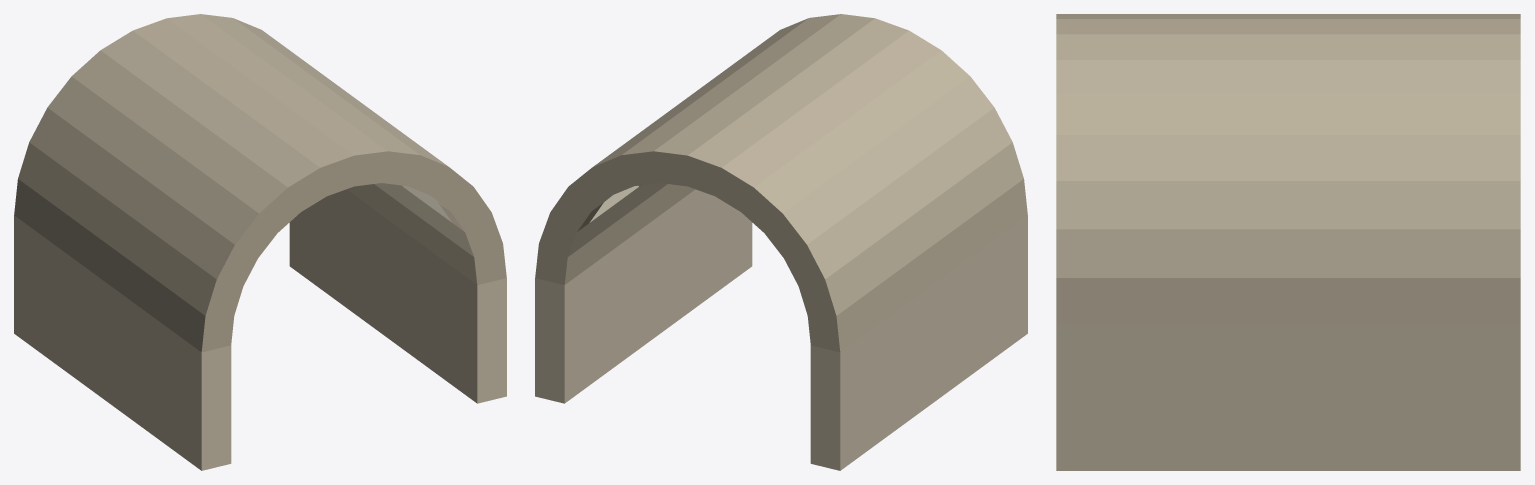
3 renders of one model, left to right at view 1: azimuth 30°, elevation 25°; view 2: azimuth 150°, elevation 25°; view 3: azimuth 270°, elevation 25°, orthographic. The views are drawn at different scales.
Parts seen in each view (by area): view 1: WholeContinuousBlindCofferedBarrelRoof, WholeFullLengthSidePier_-1, WholeFullLengthSidePier_1; view 2: WholeContinuousBlindCofferedBarrelRoof, WholeFullLengthSidePier_-1, WholeFullLengthSidePier_1; view 3: WholeContinuousBlindCofferedBarrelRoof, WholeFullLengthSidePier_1.
Part boxes in pixels (<box>): WholeContinuousBlindCofferedBarrelRoof: <box>14,14,506,352</box>; WholeFullLengthSidePier_-1: <box>14,215,231,470</box>; WholeFullLengthSidePier_1: <box>289,189,506,403</box>; WholeContinuousBlindCofferedBarrelRoof: <box>535,14,1027,352</box>; WholeFullLengthSidePier_-1: <box>810,215,1027,470</box>; WholeFullLengthSidePier_1: <box>535,189,752,403</box>; WholeContinuousBlindCofferedBarrelRoof: <box>1056,14,1520,324</box>; WholeFullLengthSidePier_1: <box>1056,324,1520,470</box>.
Bounding box in the file's own units: 3.1 × 2.7 × 3.3.
